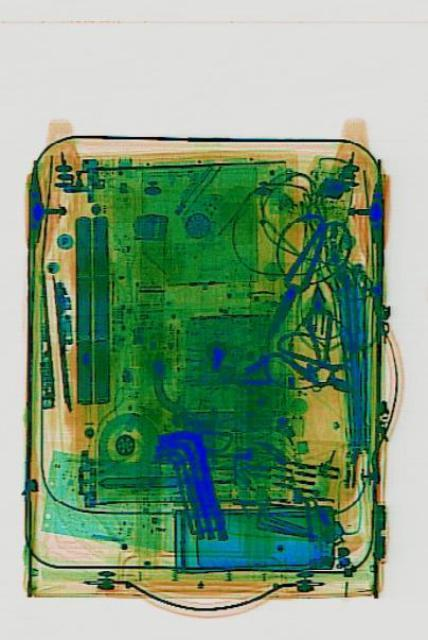Scissors: (235, 185, 356, 368), (282, 274, 353, 372)
